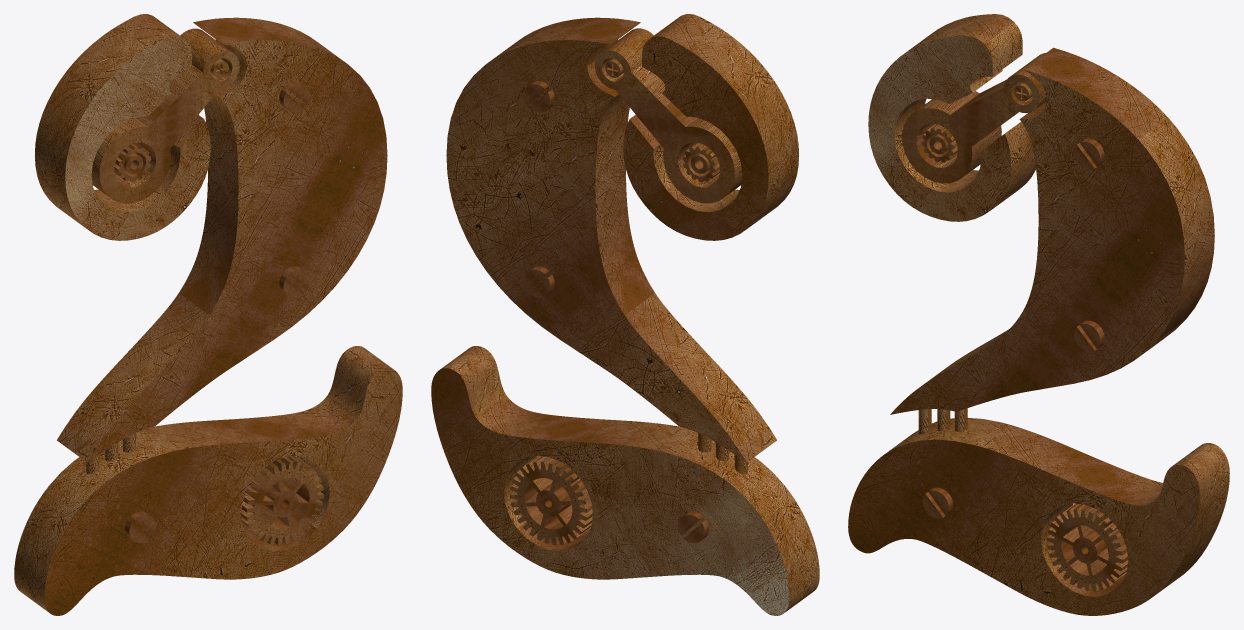
3 views of the same model, side by side, from view 1: azimuth 30°, elevation 25°; view 2: azimuth 150°, elevation 25°; view 3: azimuth 330°, elevation 25° (orthographic).
Parts seen in each view (by area): view 1: 023, 053, Lever_036, Cogwheel_368, Cogwheel_434, Screw_698, Screw_696, Screw_707; view 2: 023, 053, Lever_036, Cogwheel_368, Cogwheel_434, Screw_698, Screw_696, Screw_707; view 3: 023, 053, Lever_036, Cogwheel_368, Cogwheel_434, Screw_707, Screw_698, Screw_696.
Boxes of the visible parts, bbox=[...] form: 023: bbox=[14, 17, 402, 615]; 053: bbox=[35, 14, 210, 240]; Lever_036: bbox=[91, 28, 239, 203]; Cogwheel_368: bbox=[241, 456, 324, 545]; Cogwheel_434: bbox=[114, 143, 151, 182]; Screw_698: bbox=[279, 81, 309, 112]; Screw_696: bbox=[125, 511, 155, 543]; Screw_707: bbox=[279, 266, 309, 297]; 023: bbox=[431, 17, 819, 615]; 053: bbox=[623, 14, 798, 240]; Lever_036: bbox=[594, 28, 742, 203]; Cogwheel_368: bbox=[510, 456, 592, 544]; Cogwheel_434: bbox=[682, 142, 719, 182]; Screw_698: bbox=[524, 81, 554, 112]; Screw_696: bbox=[678, 511, 708, 543]; Screw_707: bbox=[524, 266, 554, 297]; 023: bbox=[848, 47, 1229, 615]; 053: bbox=[868, 14, 1035, 221]; Lever_036: bbox=[902, 53, 1046, 183]; Cogwheel_368: bbox=[1047, 503, 1128, 591]; Cogwheel_434: bbox=[921, 124, 957, 162]; Screw_707: bbox=[1074, 320, 1104, 351]; Screw_698: bbox=[1074, 138, 1104, 169]; Screw_696: bbox=[922, 487, 952, 518].
Size of the model in its own units: 67.83 by 102 by 12.89.
1 material, 1 textured.
